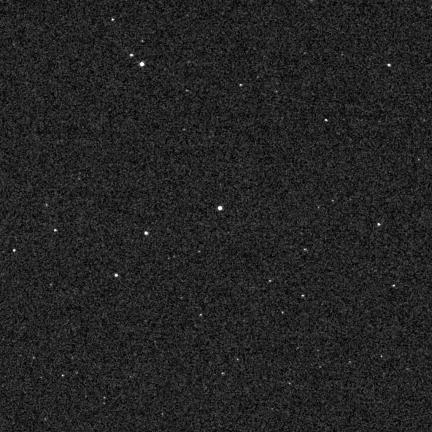blob: (140, 62, 145, 67), (387, 64, 392, 68), (222, 372, 226, 376), (13, 249, 17, 253), (218, 206, 222, 210), (111, 18, 115, 22), (239, 84, 244, 87), (324, 119, 328, 122), (378, 223, 381, 227), (392, 285, 396, 288), (145, 231, 148, 235), (200, 314, 203, 317), (302, 295, 305, 298), (115, 274, 118, 277), (54, 229, 57, 232), (130, 54, 133, 56)
